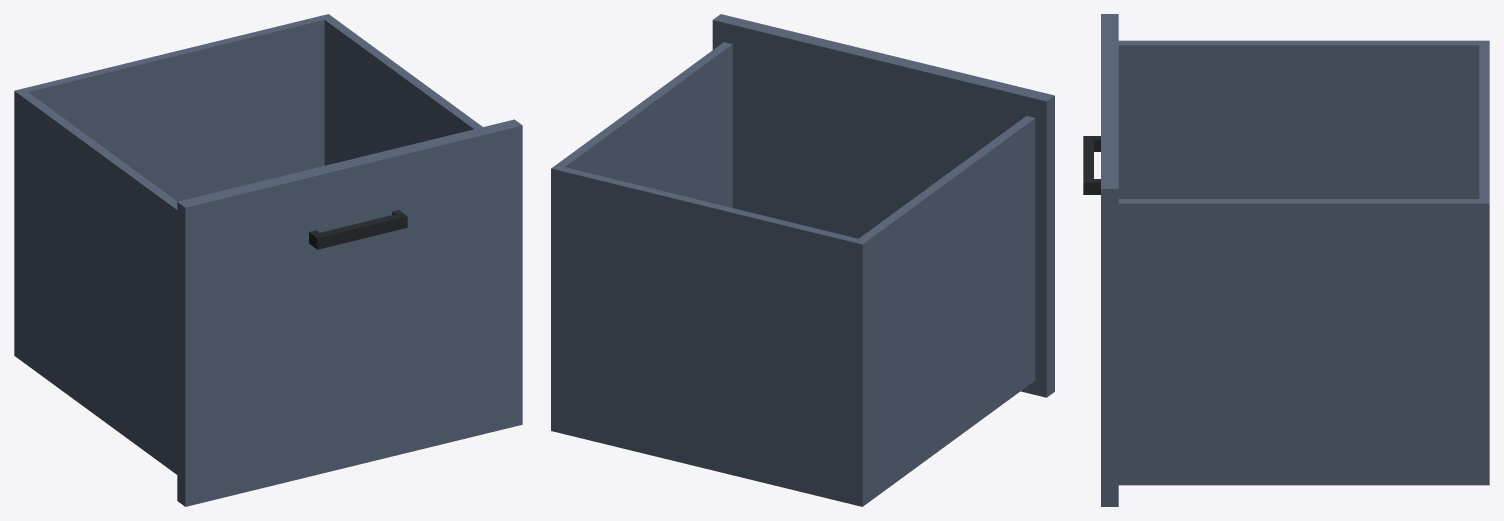
The model's file is Door2_C4_06.fbx.
The picture shows the model from 3 angles, left to right: view 1: azimuth 30°, elevation 25°; view 2: azimuth 150°, elevation 25°; view 3: azimuth 270°, elevation 25°; orthographic projection. The views are drawn at different scales.
Parts seen in each view (by area): view 1: Door2_C4_06; view 2: Door2_C4_06; view 3: Door2_C4_06.
Part boxes in pixels (x1=…): Door2_C4_06: x1=14, y1=14, x2=522, y2=506; Door2_C4_06: x1=551, y1=14, x2=1054, y2=506; Door2_C4_06: x1=1083, y1=14, x2=1489, y2=506.
Bounding box in the file's own units: 59 × 50 × 57.89.
